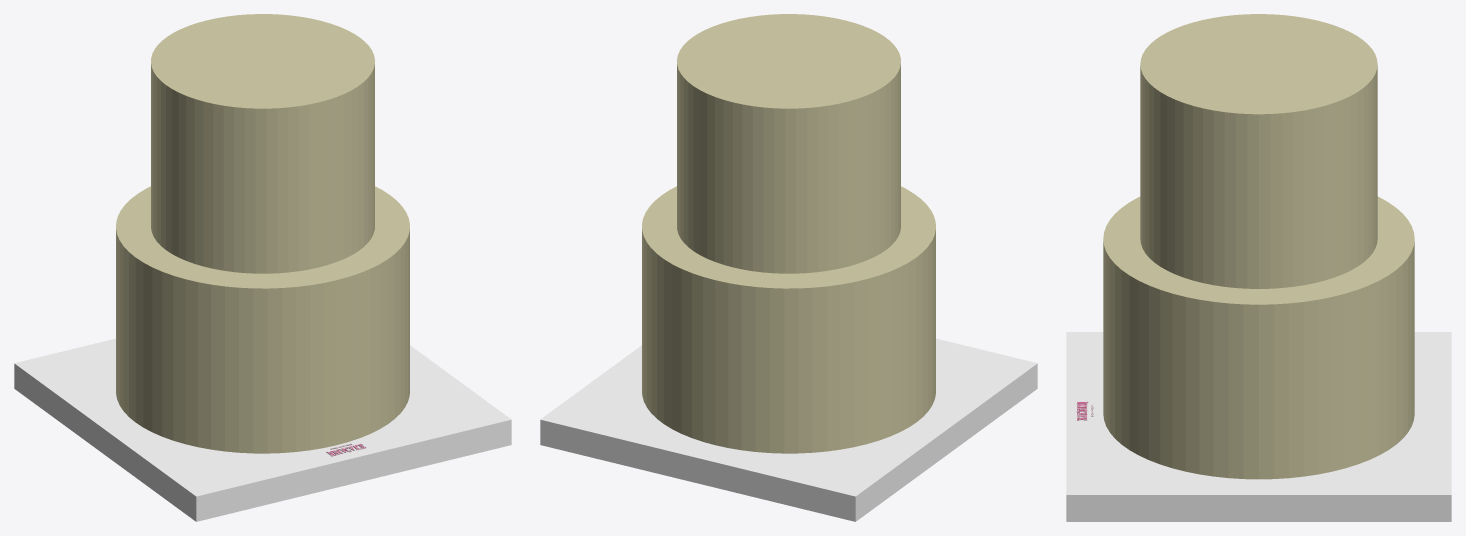
File: cake_tier2_8-6_layers3_v35.glb
3 renders of one model, left to right at view 1: azimuth 30°, elevation 25°; view 2: azimuth 150°, elevation 25°; view 3: azimuth 270°, elevation 25°, orthographic. The views are drawn at different scales.
Visible parts, largest first — view 1: Tier1_8in, Tier2_6in, Board; view 2: Tier1_8in, Tier2_6in, Board; view 3: Tier1_8in, Tier2_6in, Board.
Part boxes in pixels (<box>): Tier1_8in: <box>116,186,409,453</box>; Tier2_6in: <box>151,14,374,273</box>; Board: <box>14,338,511,521</box>; Tier1_8in: <box>642,186,935,453</box>; Tier2_6in: <box>677,14,900,273</box>; Board: <box>540,338,1037,521</box>; Tier1_8in: <box>1103,196,1414,479</box>; Tier2_6in: <box>1140,14,1377,288</box>; Board: <box>1066,332,1451,521</box>.
Size of the model in its own units: 0.26 by 0.28 by 0.26.
